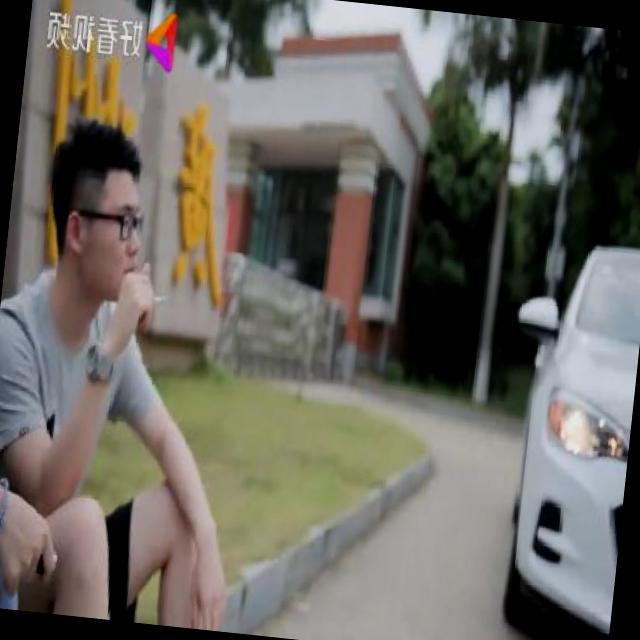cigarette: (144, 285, 172, 312)
